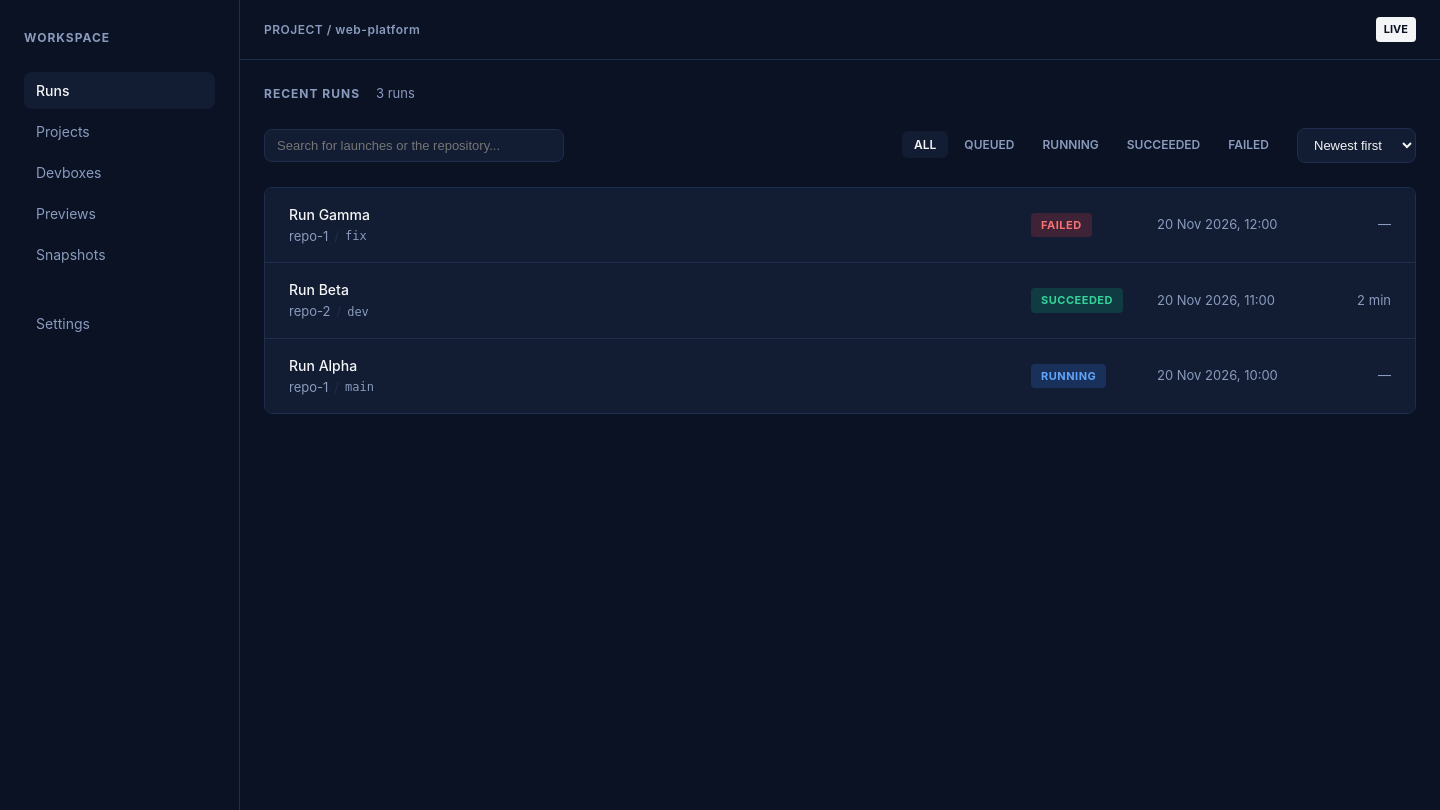
App Integration Tests › 1. should filter runs by status
Expected: the heading "Run Alpha" is shown, [289,356,357,374]
Expected: the heading "Run Beta" is shown, [289,281,349,298]
Step 1. Click the button "Running" → point(1071, 144), box [1030,130,1111,158]
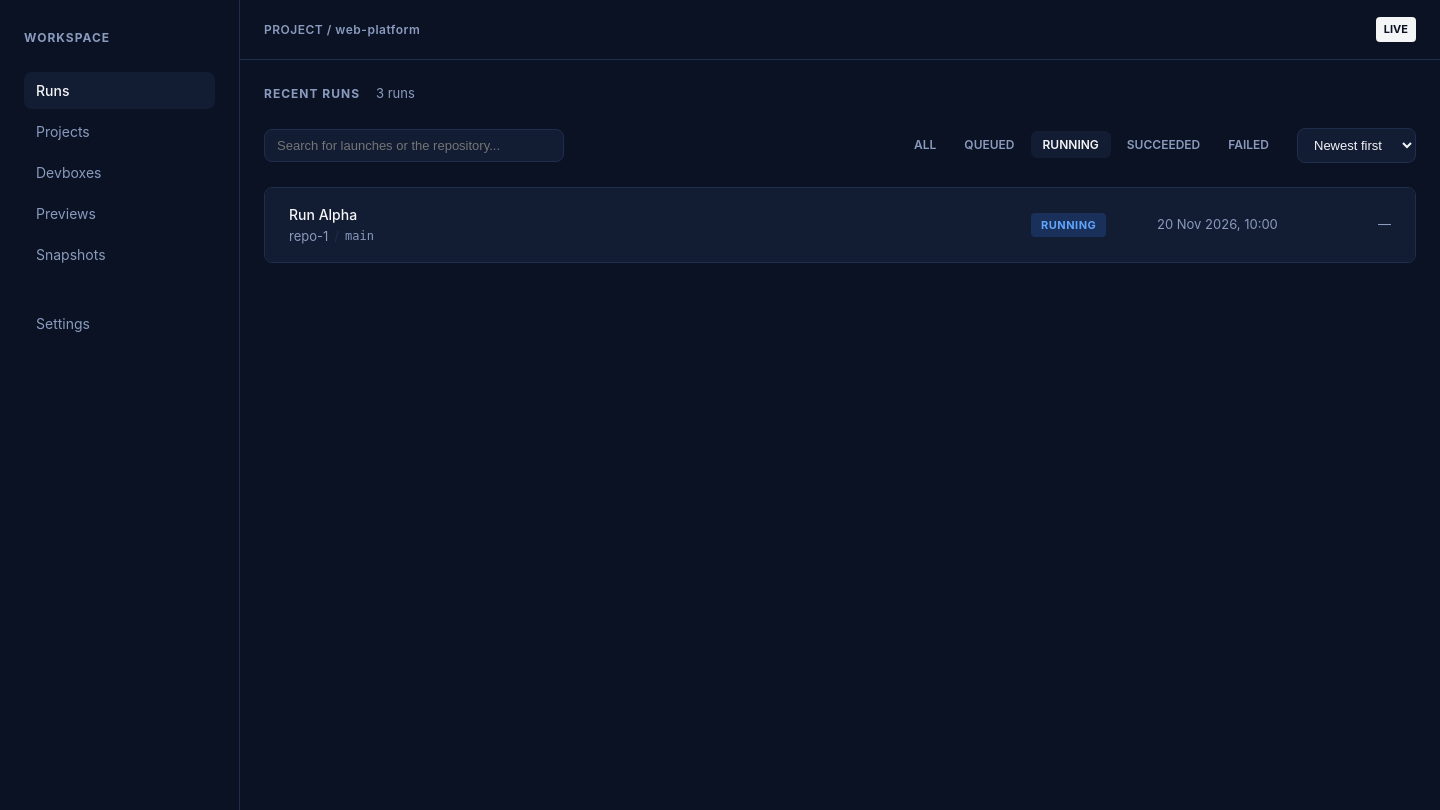
Expected: the heading "Run Alpha" is shown, [289,206,357,222]
Expected: the button "Run Beta" is gone
Expected: the button "Run Gamma" is gone
